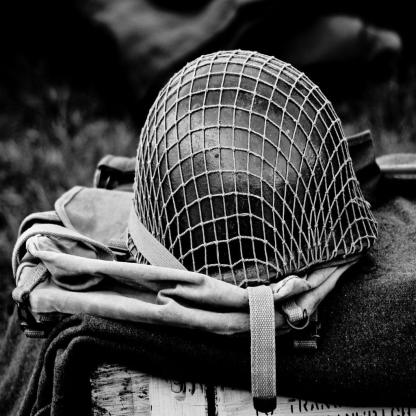Helmet: (100, 48, 372, 337)
